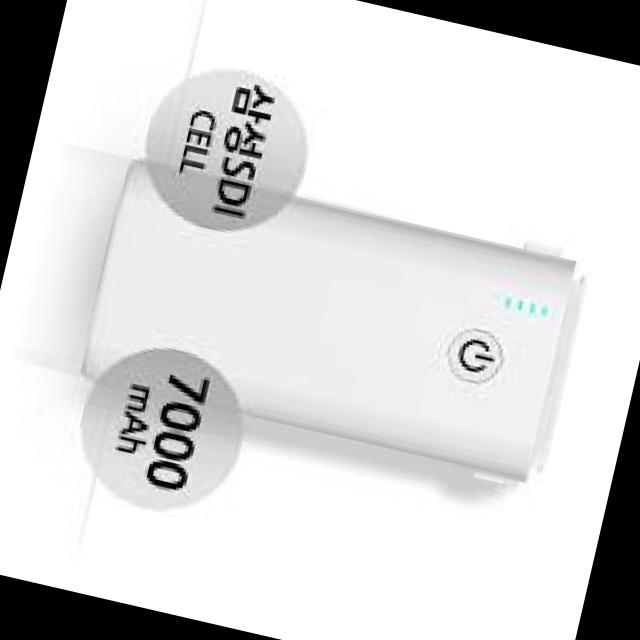portable-charger: (74, 155, 594, 492)
